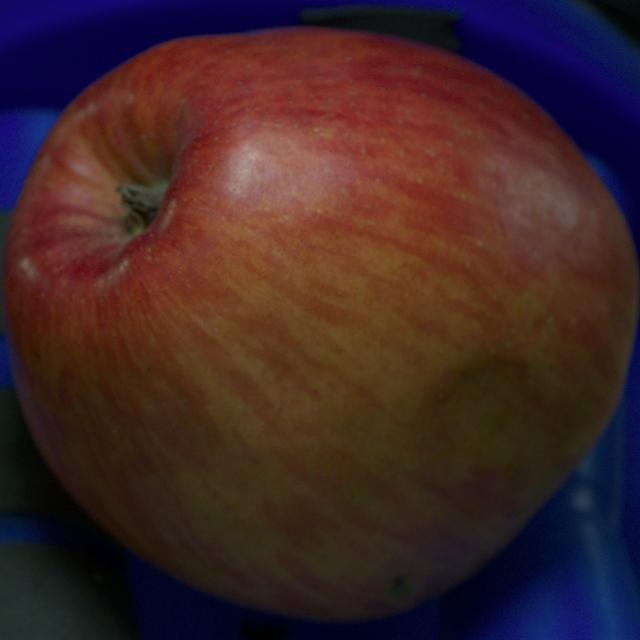apple: (4, 29, 638, 619)
bruise: (424, 352, 562, 473)
pest: (389, 576, 410, 596)
